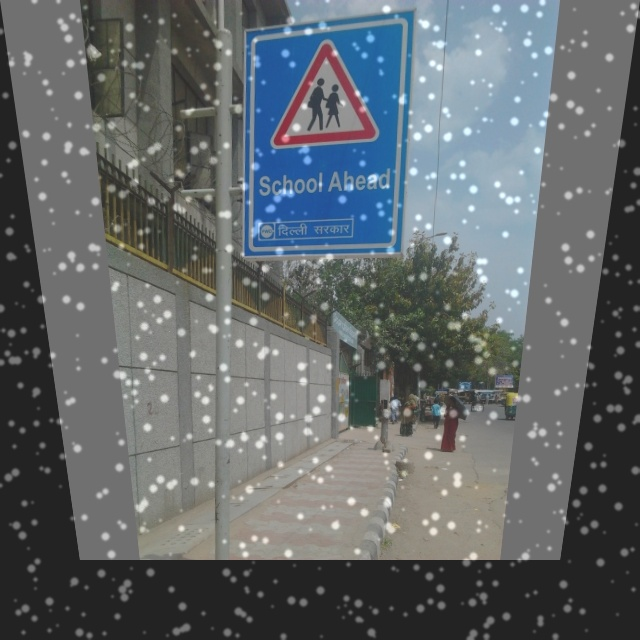School_Ahead: (263, 40, 394, 153)
